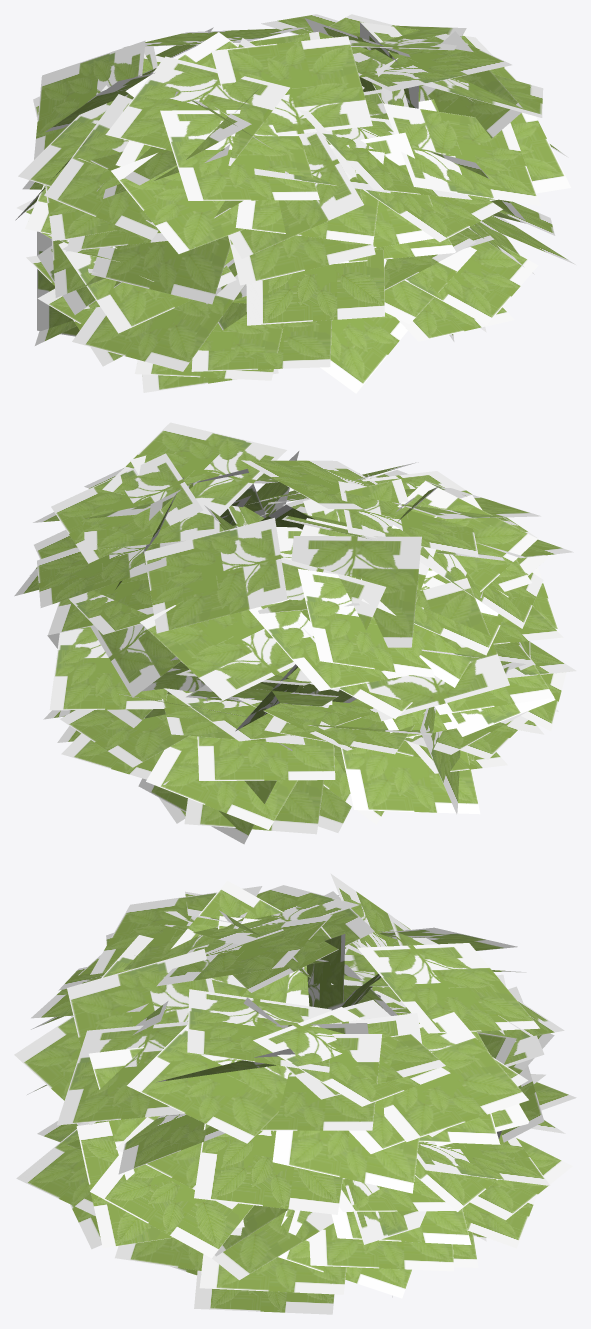
The model's file is shrub.glb.
The picture shows the model from 3 angles, top to bottom: view 1: azimuth 30°, elevation 25°; view 2: azimuth 150°, elevation 25°; view 3: azimuth 270°, elevation 25°; orthographic projection. The views are drawn at different scales.
Visible parts, largest first — view 1: leaves; view 2: leaves; view 3: leaves.
Part boxes in pixels (<box>): leaves: <box>15,14,575,393</box>; leaves: <box>14,422,576,844</box>; leaves: <box>14,873,576,1314</box>.
Size of the model in its own units: 4.17 by 2.37 by 3.88.
Materials: 1 (1 with a texture image).
